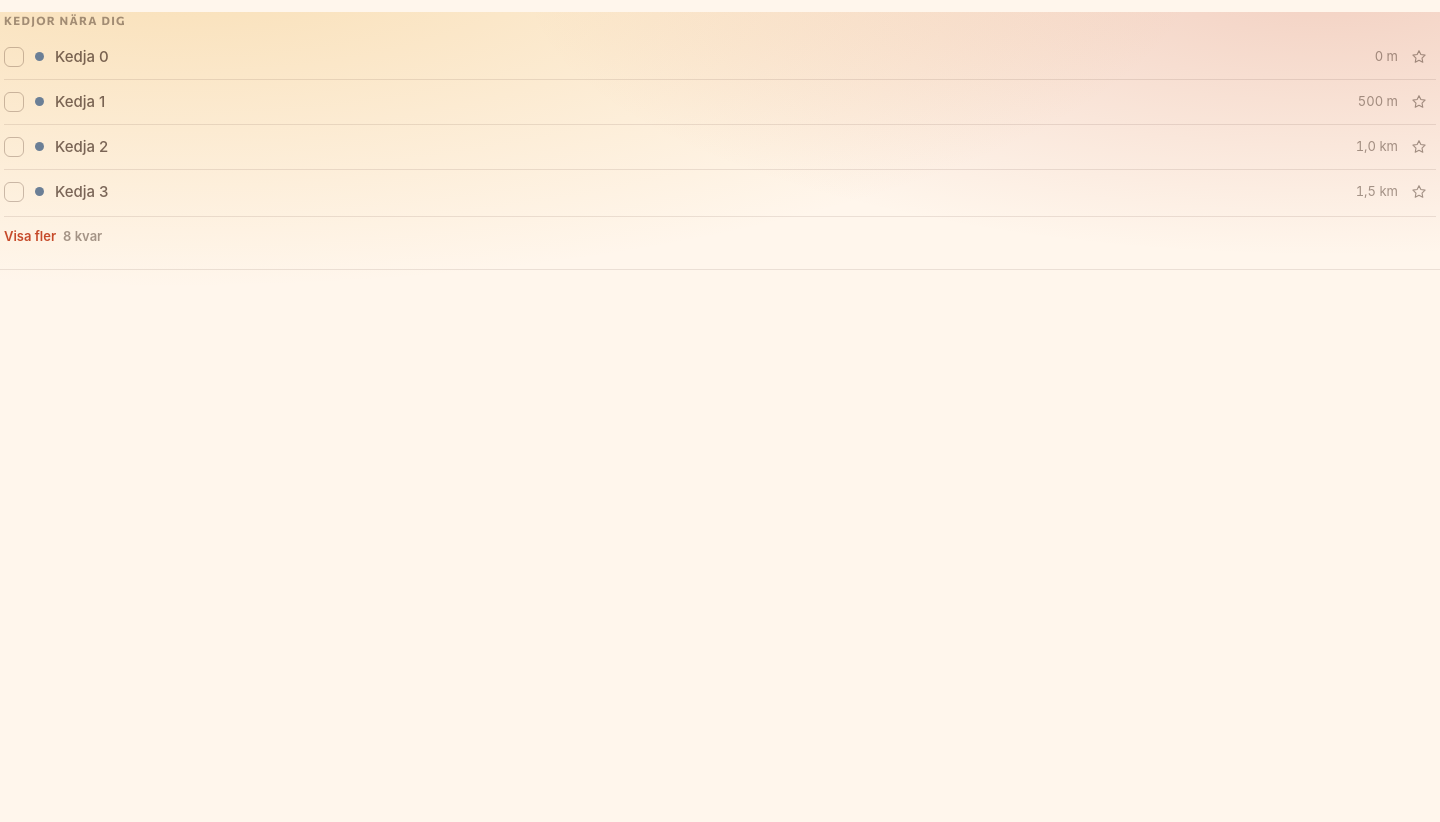
Test: ChainFilterComponent › döljer knappen när alla kedjor visas
Click the button with class "more" at (30, 236), box [4, 216, 1436, 256]
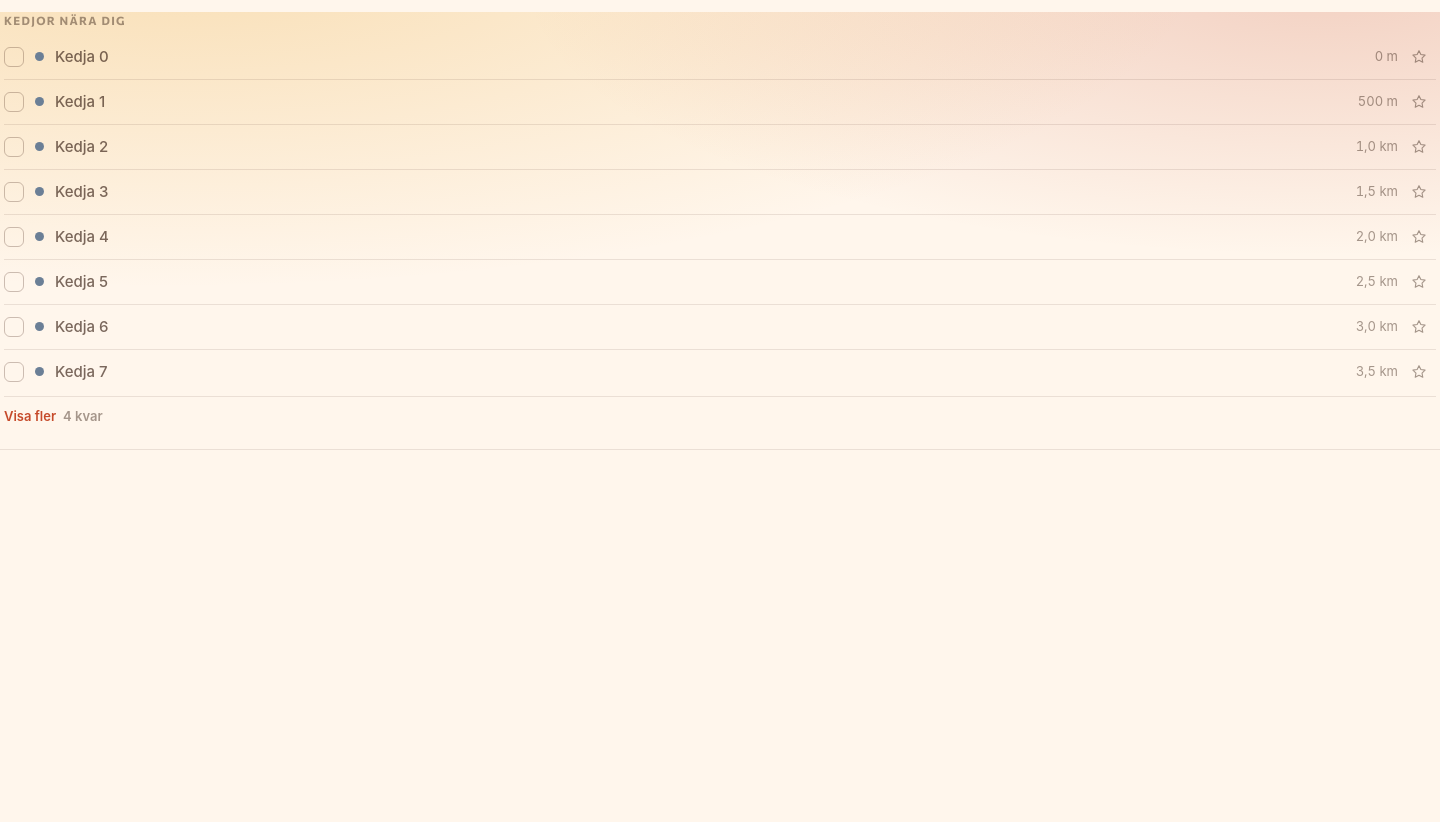
Click the button with class "more" at (30, 416), box [4, 396, 1436, 436]
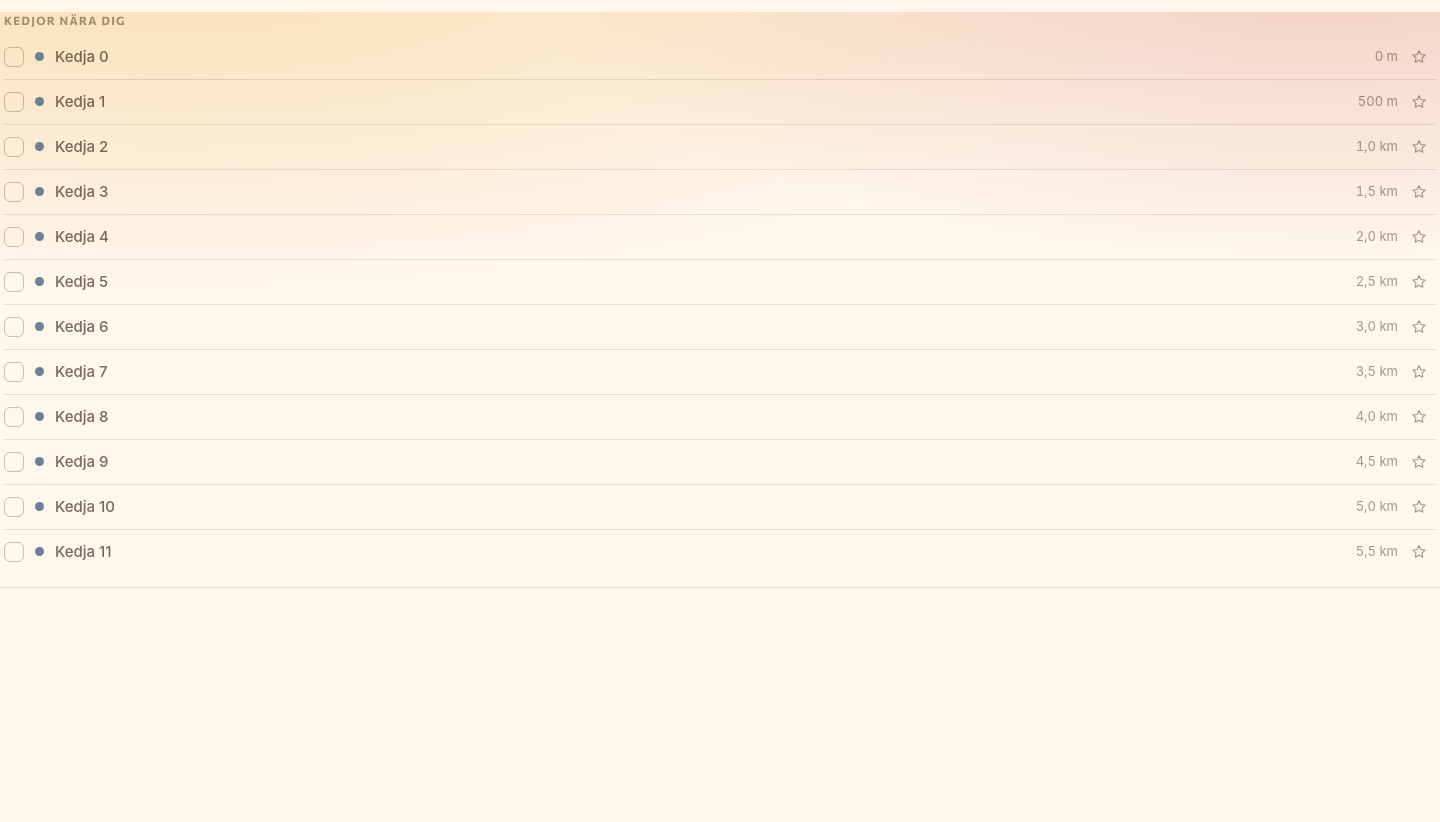
Check: the button with class "more" is gone
